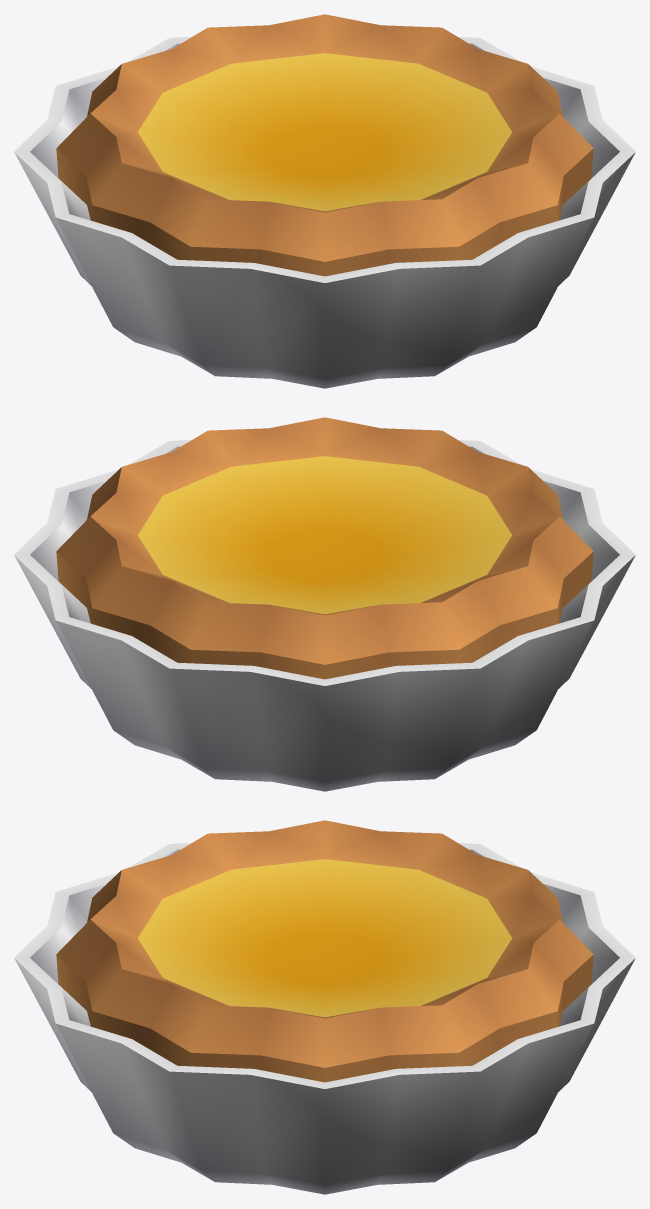
File: m_DanTat01.fbx
3 renders of one model, top to bottom at view 1: azimuth 30°, elevation 25°; view 2: azimuth 150°, elevation 25°; view 3: azimuth 270°, elevation 25°, orthographic.
Parts seen in each view (by area): view 1: m_DanTat01; view 2: m_DanTat01; view 3: m_DanTat01.
Part boxes in pixels (x1,y1,x2,y2): m_DanTat01: (14, 14, 635, 388); m_DanTat01: (14, 417, 635, 791); m_DanTat01: (14, 820, 635, 1194).
Bounding box in the file's own units: 7.32 × 2.37 × 7.32.
